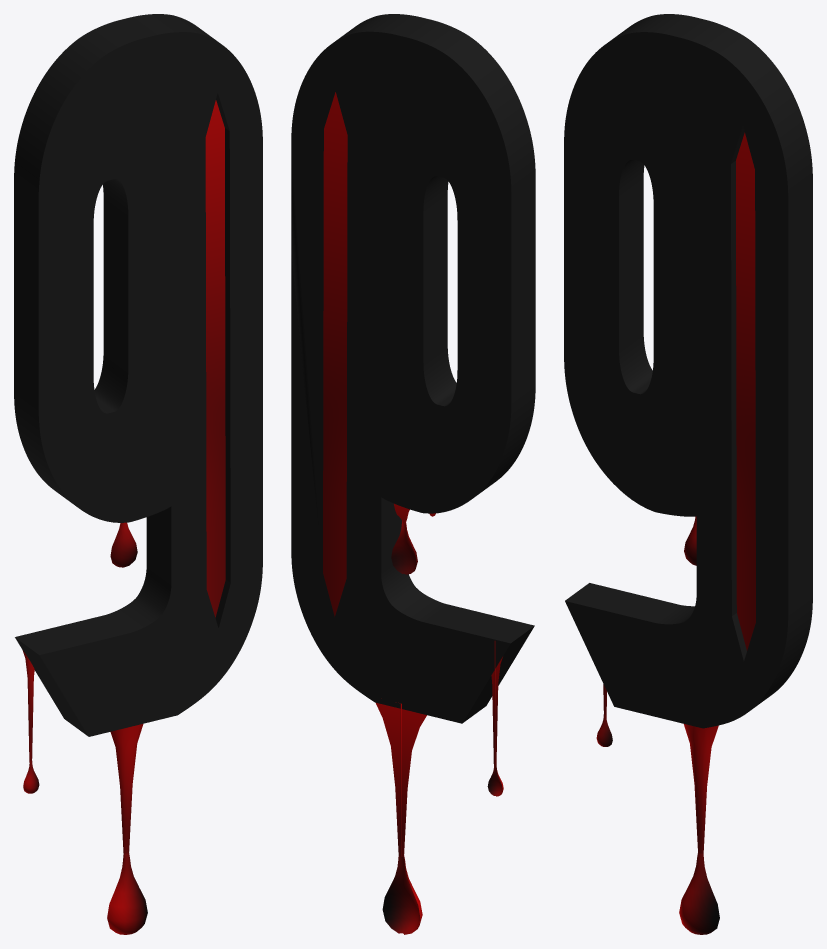
3 renders of one model, left to right at view 1: azimuth 30°, elevation 25°; view 2: azimuth 150°, elevation 25°; view 3: azimuth 330°, elevation 25°, orthographic.
Visible parts, largest first — view 1: 9, 9_Element, Blood_136, Blood_135, Blood_134; view 2: 9, 9_Element, Blood_136, Blood_134, Blood_135; view 3: 9, 9_Element, Blood_136.
Boxes of the visible parts, left/top/right/bottom form: 9: left=14, top=14, right=262, bottom=736; 9_Element: left=205, top=100, right=225, bottom=617; Blood_136: left=107, top=724, right=147, bottom=934; Blood_135: left=22, top=650, right=39, bottom=793; Blood_134: left=110, top=522, right=137, bottom=567; 9: left=291, top=14, right=535, bottom=723; 9_Element: left=323, top=92, right=347, bottom=616; Blood_136: left=376, top=703, right=426, bottom=934; Blood_134: left=391, top=503, right=435, bottom=574; Blood_135: left=487, top=641, right=503, bottom=796; 9: left=564, top=14, right=812, bottom=728; 9_Element: left=736, top=132, right=755, bottom=650; Blood_136: left=679, top=724, right=719, bottom=934.
Bounding box in the file's own units: 26.2 × 102 × 5.04.
2 materials, 1 textured.
